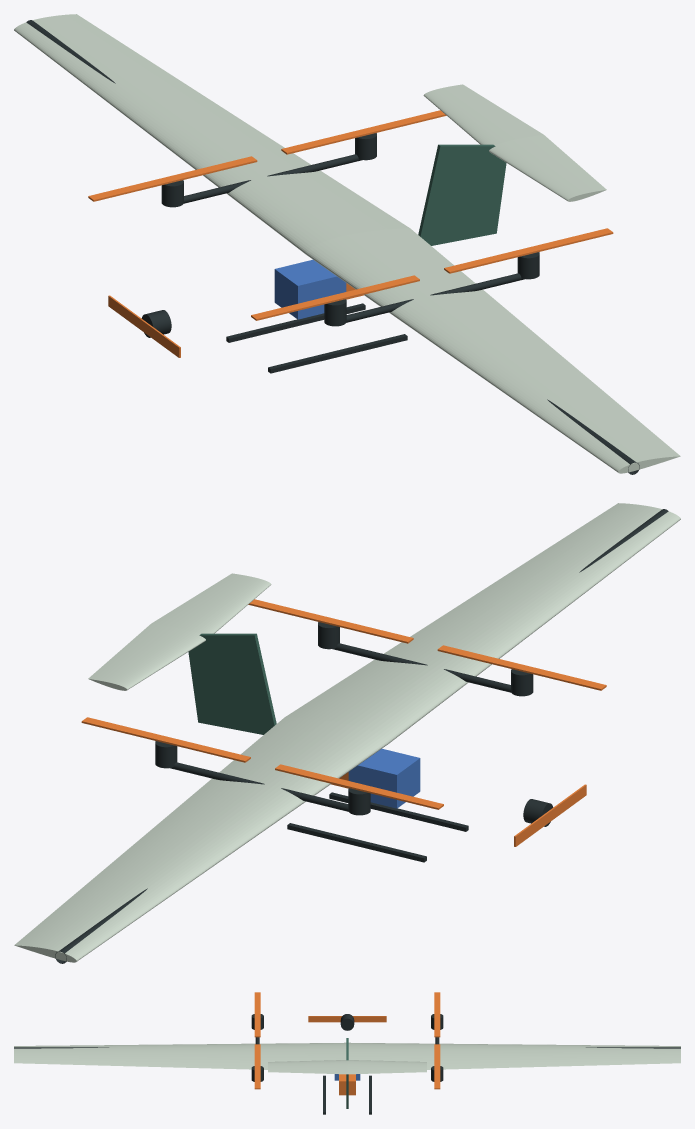
Rendered from 07-internal.glb.
The picture shows the model from 3 angles, top to bottom: view 1: azimuth 30°, elevation 25°; view 2: azimuth 150°, elevation 25°; view 3: azimuth 270°, elevation 25°; orthographic projection. The views are drawn at different scales.
Parts seen in each view (by area): view 1: wing-1, wing1, fin, tail-1, tail1, payload, prop_-1_700.0, prop_1_220.0, prop_-1_220.0, prop_1_700.0, boom-1, boom1 (+4 smaller); view 2: wing1, wing-1, fin, tail1, tail-1, payload, prop_1_700.0, prop_-1_220.0, prop_1_220.0, prop_-1_700.0, boom1, boom-1 (+4 smaller); view 3: wing-1, wing1, tail-1, tail1, cruise_prop, battery, prop_-1_220.0, prop_-1_700.0, prop_1_220.0, prop_1_700.0, wing_spar.
Part boxes in pixels (bbox=[...]): wing-1: bbox=[305, 228, 680, 473]; wing1: bbox=[14, 14, 409, 254]; fin: bbox=[418, 144, 506, 245]; tail-1: bbox=[489, 134, 606, 201]; tail1: bbox=[423, 84, 543, 145]; payload: bbox=[274, 259, 346, 319]; prop_-1_700.0: bbox=[444, 228, 613, 273]; prop_1_220.0: bbox=[88, 156, 257, 201]; prop_-1_220.0: bbox=[251, 275, 419, 320]; prop_1_700.0: bbox=[281, 110, 446, 154]; boom-1: bbox=[346, 273, 525, 322]; boom1: bbox=[184, 154, 362, 203]; wing1: bbox=[14, 717, 389, 962]; wing-1: bbox=[285, 503, 680, 743]; fin: bbox=[188, 633, 276, 734]; tail1: bbox=[88, 623, 205, 690]; tail-1: bbox=[151, 573, 271, 634]; payload: bbox=[348, 748, 420, 808]; prop_1_700.0: bbox=[81, 717, 250, 762]; prop_-1_220.0: bbox=[437, 645, 606, 690]; prop_1_220.0: bbox=[275, 764, 443, 809]; prop_-1_700.0: bbox=[248, 599, 413, 643]; boom1: bbox=[169, 762, 348, 811]; boom-1: bbox=[332, 643, 510, 692]; wing-1: bbox=[14, 1042, 346, 1069]; wing1: bbox=[348, 1042, 680, 1069]; tail-1: bbox=[268, 1060, 347, 1074]; tail1: bbox=[347, 1060, 426, 1074]; cruise_prop: bbox=[308, 1016, 386, 1022]; battery: bbox=[339, 1074, 355, 1095]; prop_-1_220.0: bbox=[254, 992, 260, 1037]; prop_-1_700.0: bbox=[254, 1044, 260, 1089]; prop_1_220.0: bbox=[434, 992, 440, 1037]; prop_1_700.0: bbox=[434, 1044, 440, 1089]; wing_spar: bbox=[14, 1047, 680, 1048].
Bounding box in the file's own units: 994 × 393 × 2600.
